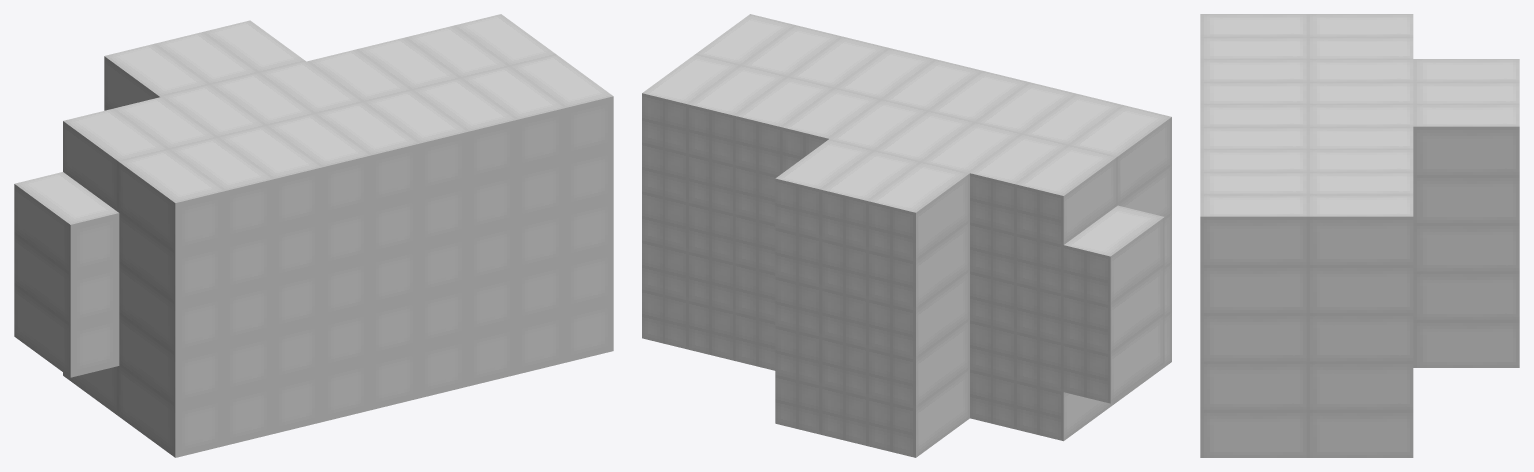
Rendered from lvl1.glb.
3 views of the same model, side by side, from view 1: azimuth 30°, elevation 25°; view 2: azimuth 150°, elevation 25°; view 3: azimuth 270°, elevation 25° (orthographic). The views are drawn at different scales.
Visible parts, largest first — view 1: Plane.026, Plane.050, Plane.051, Plane.052, Plane.053, Plane.029, Plane.030, Plane.032, Plane.054, Plane.040, Plane.065, Plane.135 (+69 smaller); view 2: Plane.030, Plane.026, Plane.029, Plane.032, Plane.167, Plane.165, Plane.166, Plane.168, Plane.169, Plane.052, Plane.062, Plane.044 (+67 smaller); view 3: Plane.048, Plane.045, Plane.047, Plane.049, Plane.067, Plane.069, Plane.070, Plane.071, Plane.160, Plane.162, Plane.163, Plane.164 (+24 smaller).
Part boxes in pixels (x1,y1,x2,y2): Plane.026: (14,235,70,326); Plane.050: (119,264,175,355); Plane.051: (119,213,175,304); Plane.052: (119,162,175,253); Plane.053: (119,366,175,457); Plane.029: (14,184,70,275); Plane.030: (63,121,119,212); Plane.032: (14,286,70,377); Plane.054: (119,315,175,406); Plane.040: (63,109,167,161); Plane.065: (460,67,564,119); Plane.135: (153,32,257,85); Plane.030: (1063,156,1117,244); Plane.026: (1110,266,1164,353); Plane.029: (1110,217,1164,304); Plane.032: (1110,315,1164,402); Plane.167: (916,173,969,261); Plane.165: (916,271,969,359); Plane.166: (916,222,969,310); Plane.168: (916,369,969,457); Plane.169: (916,320,969,408); Plane.052: (1118,117,1171,204); Plane.062: (1071,105,1171,156); Plane.044: (642,53,742,104); Plane.048: (1306,361,1413,409); Plane.045: (1306,216,1413,264); Plane.047: (1306,313,1413,361); Plane.049: (1306,409,1413,457); Plane.067: (1200,216,1306,264); Plane.069: (1200,313,1306,361); Plane.070: (1200,361,1306,409); Plane.071: (1200,409,1306,457); Plane.160: (1413,126,1519,174); Plane.162: (1413,223,1519,271); Plane.163: (1413,271,1519,319); Plane.164: (1413,319,1519,367).
Bounding box in the file's own units: 20 × 10 × 12.
Materials: 3 (3 with a texture image).
